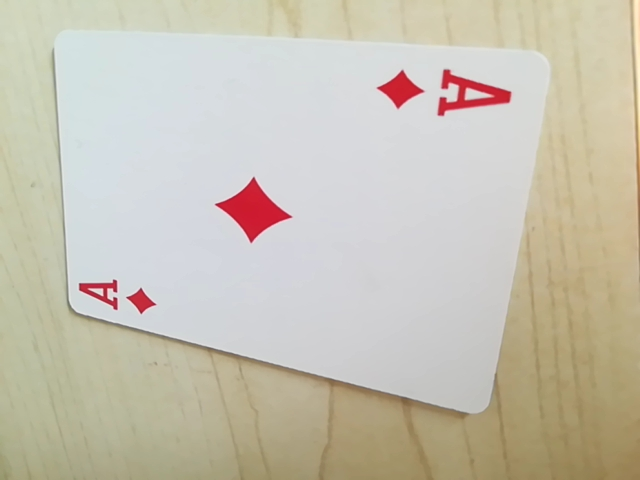fk a: (376, 62, 514, 124), (72, 268, 167, 323)
